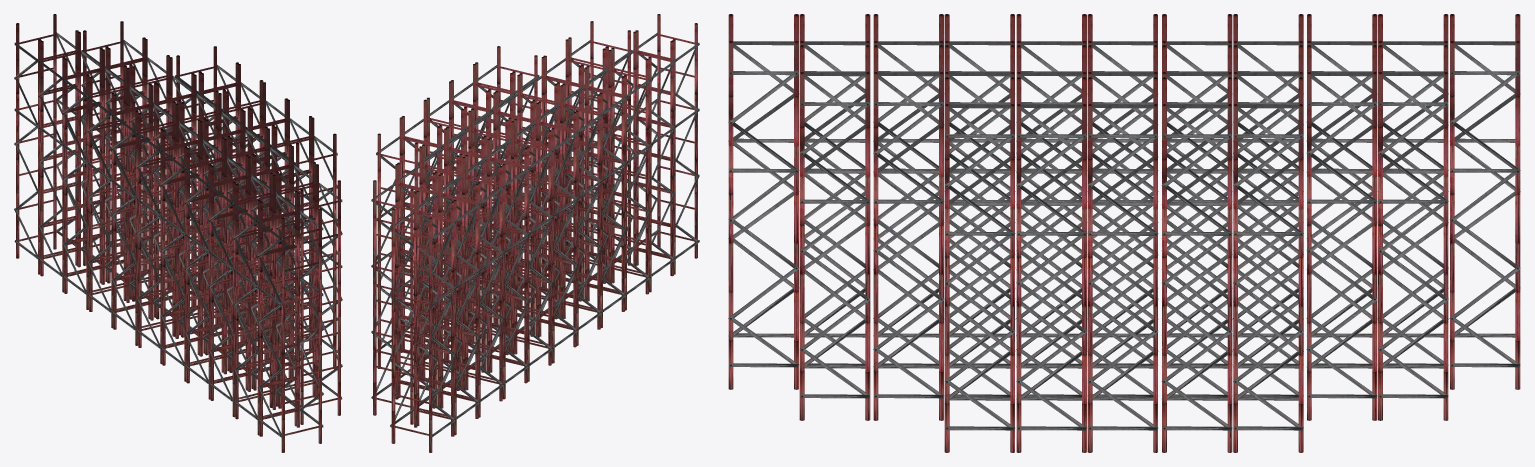
The model's file is scafolding_inside_steel_tank.fbx.
3 views of the same model, side by side, from view 1: azimuth 30°, elevation 25°; view 2: azimuth 150°, elevation 25°; view 3: azimuth 270°, elevation 25° (orthographic). The views are drawn at different scales.
Visible parts, largest first — view 1: InsideSteelTankScafolding_LOD0; view 2: InsideSteelTankScafolding_LOD0; view 3: InsideSteelTankScafolding_LOD0.
Part boxes in pixels (x1=…): InsideSteelTankScafolding_LOD0: x1=14, y1=14, x2=342, y2=452; InsideSteelTankScafolding_LOD0: x1=371, y1=14, x2=699, y2=452; InsideSteelTankScafolding_LOD0: x1=728, y1=14, x2=1520, y2=452.
Size of what is drawn, in the model's own units: 429 by 736 by 1523.
